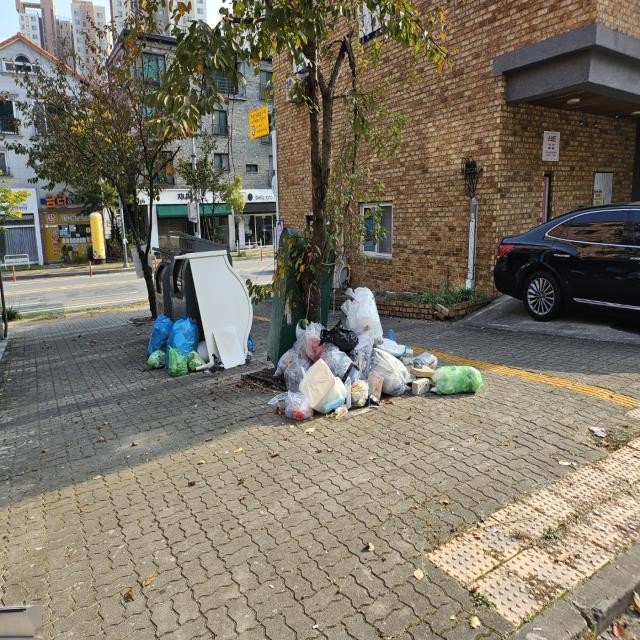CleanNet: (154, 256, 178, 324)
General Waste: (271, 283, 483, 416), (146, 303, 207, 377)
Large Waste Items: (178, 252, 258, 376)
